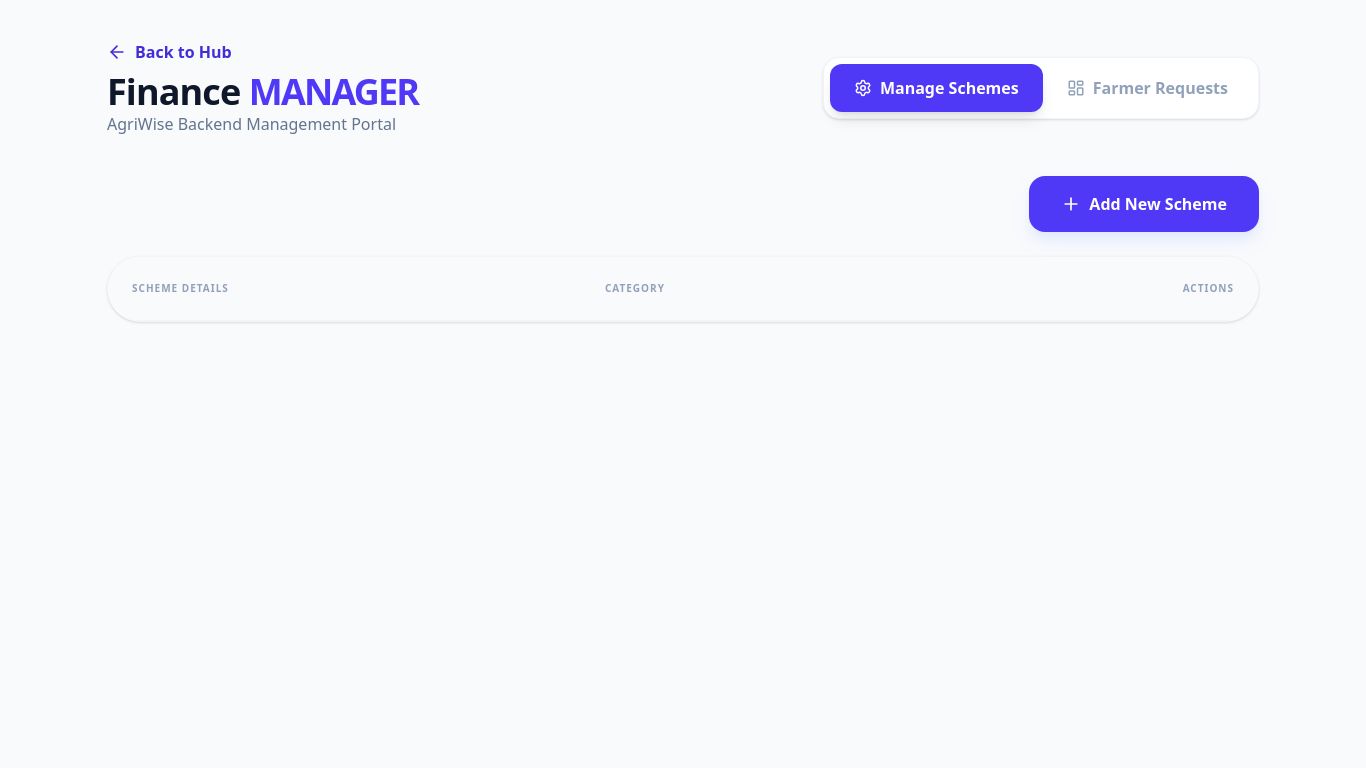
Test: FinanceAdmin Component › opens add scheme modal
Click the button "Add New Scheme".
click(1144, 204)  # box [1029,176,1259,232]
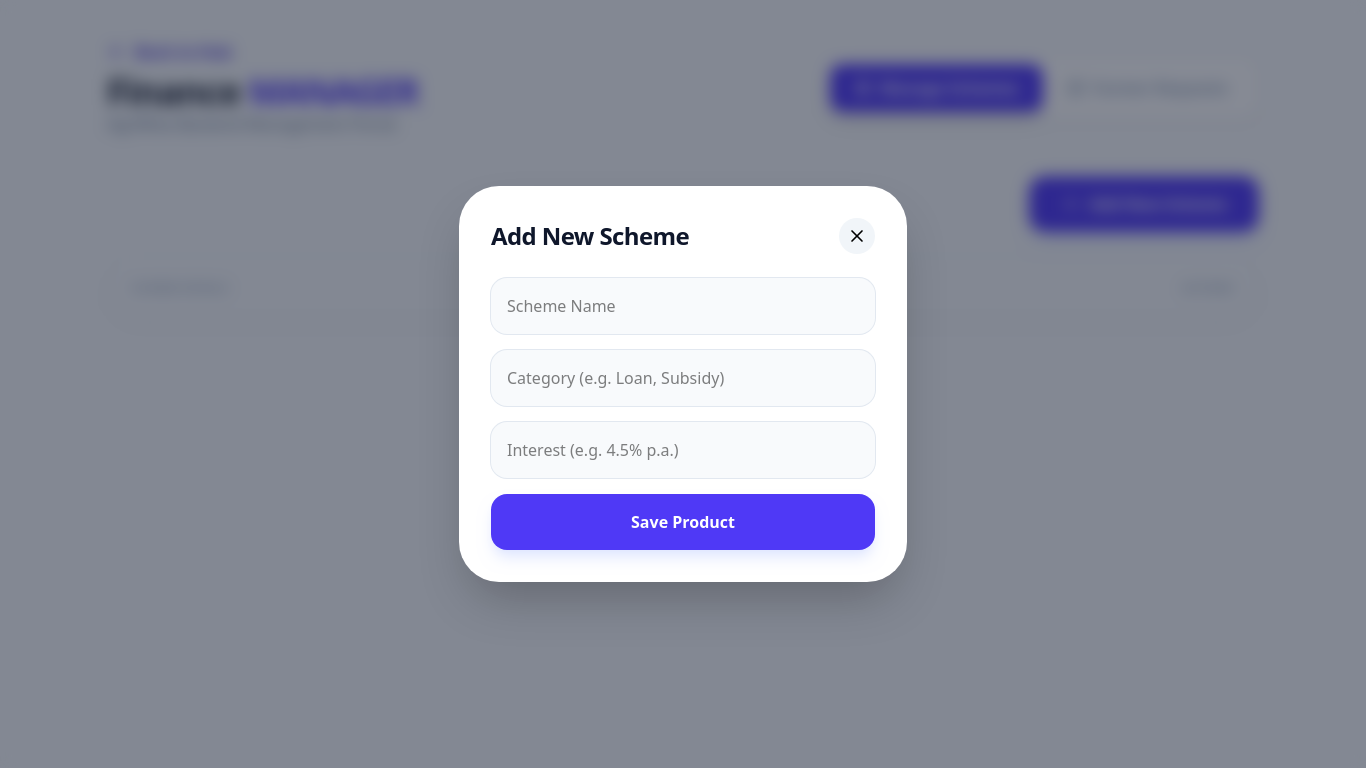
Expected: the field with placeholder "Scheme Name" is shown, [491,278,875,334]
